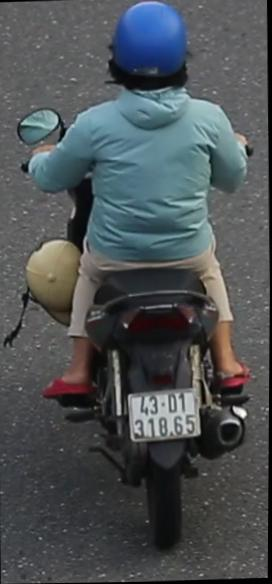LP: (126, 384, 205, 444)
helmet: (103, 0, 203, 116)
